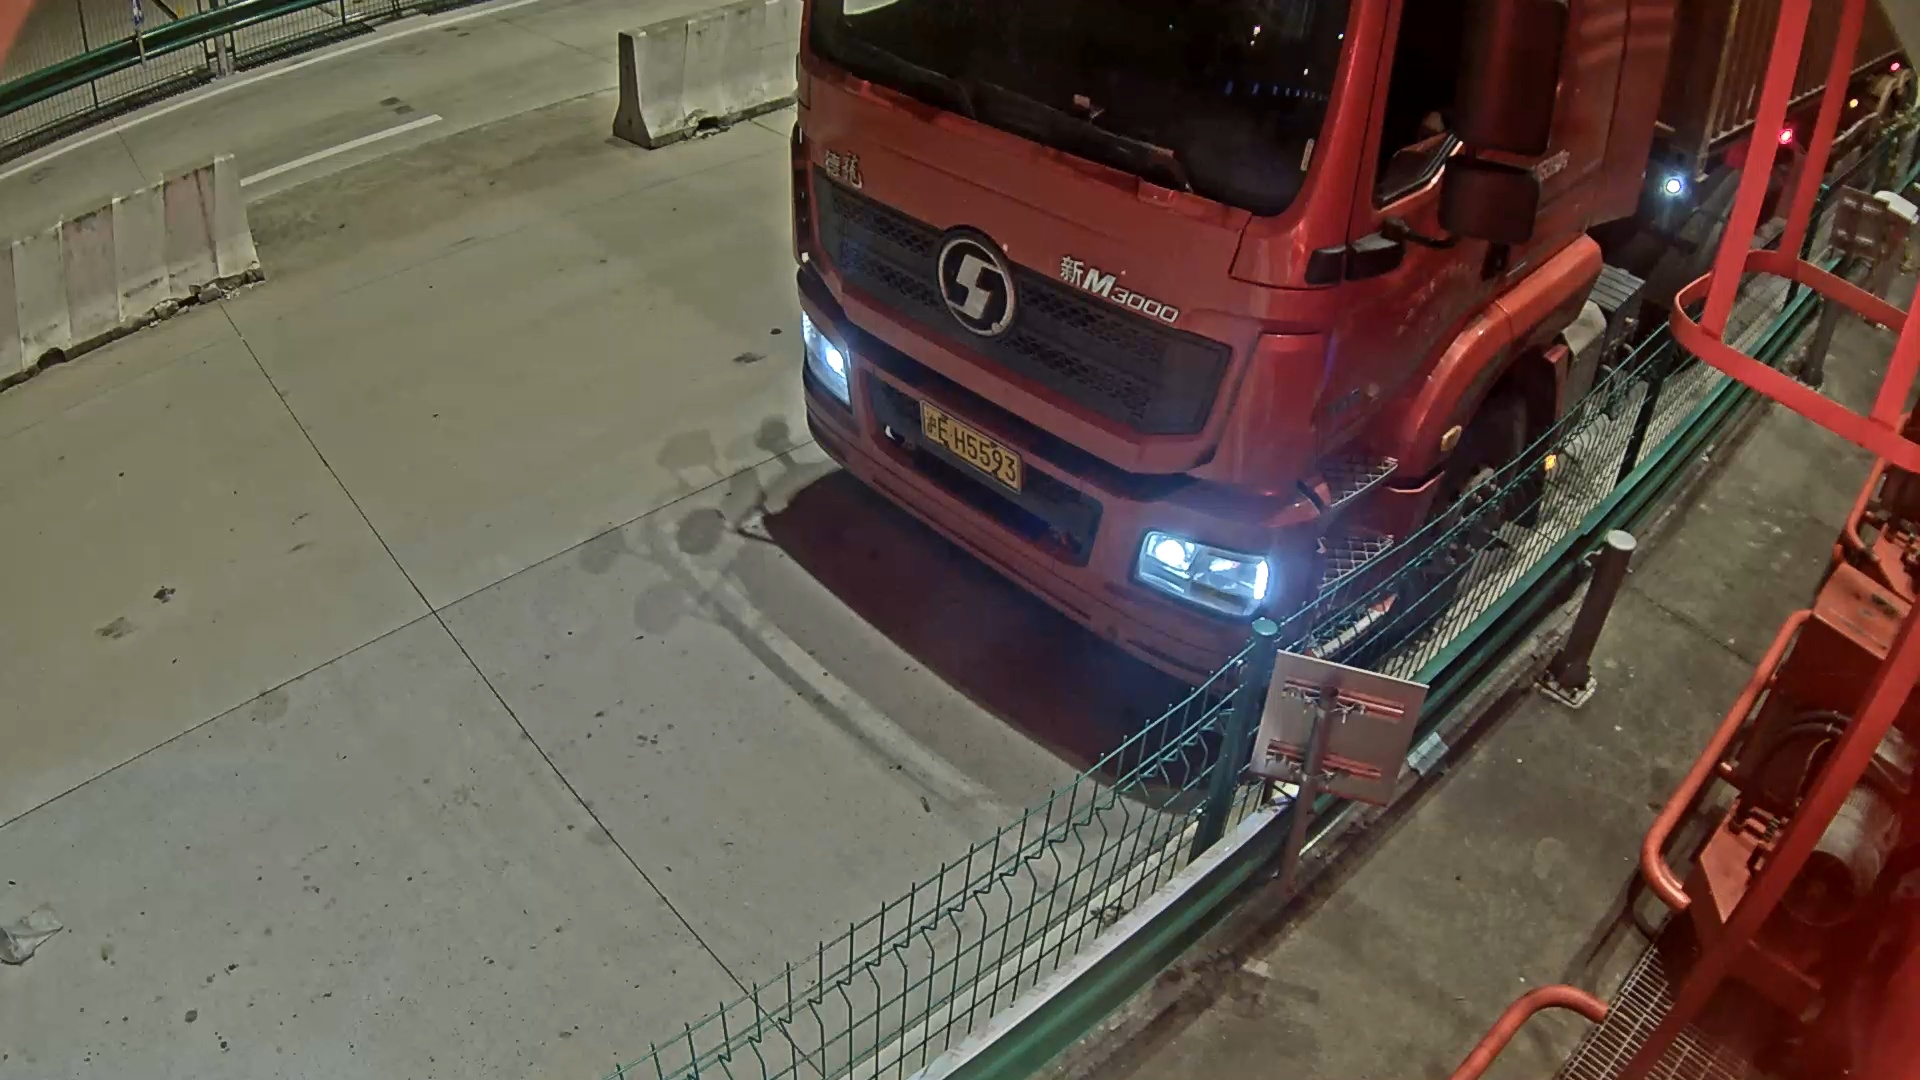head: (797, 1, 1668, 687)
plate: (917, 399, 1022, 487)
